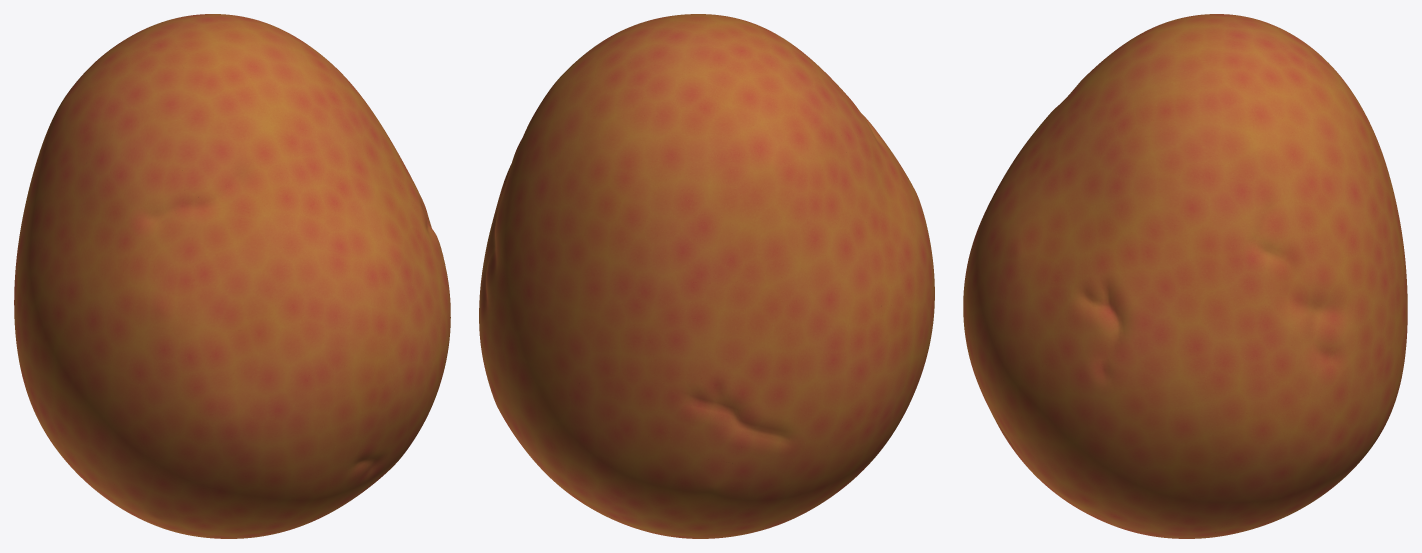
The picture shows the model from 3 angles, left to right: view 1: azimuth 30°, elevation 25°; view 2: azimuth 150°, elevation 25°; view 3: azimuth 270°, elevation 25°; orthographic projection. The views are drawn at different scales.
Visible parts, largest first — view 1: baked_egg_6; view 2: baked_egg_6; view 3: baked_egg_6.
Boxes of the visible parts, left/top/right/bottom form: baked_egg_6: left=14, top=14, right=450, bottom=538; baked_egg_6: left=479, top=14, right=934, bottom=538; baked_egg_6: left=963, top=14, right=1407, bottom=538.
Size of the model in its own units: 0.9366 by 1.15 by 0.9511.
1 material, 1 textured.
